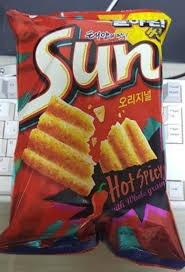snack: (0, 6, 185, 271)
